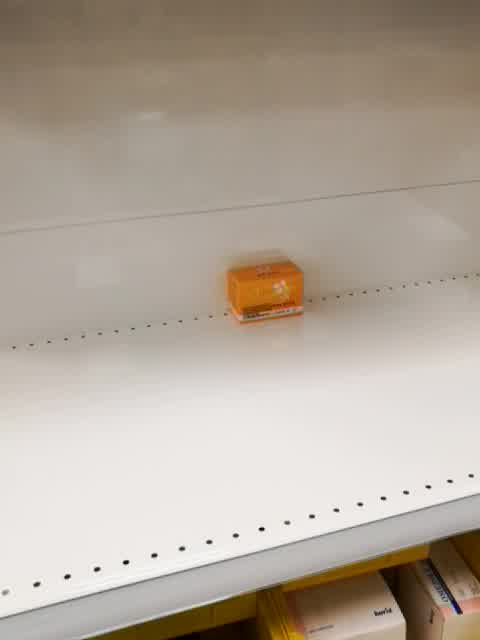jasminetea: (226, 259, 305, 324)
